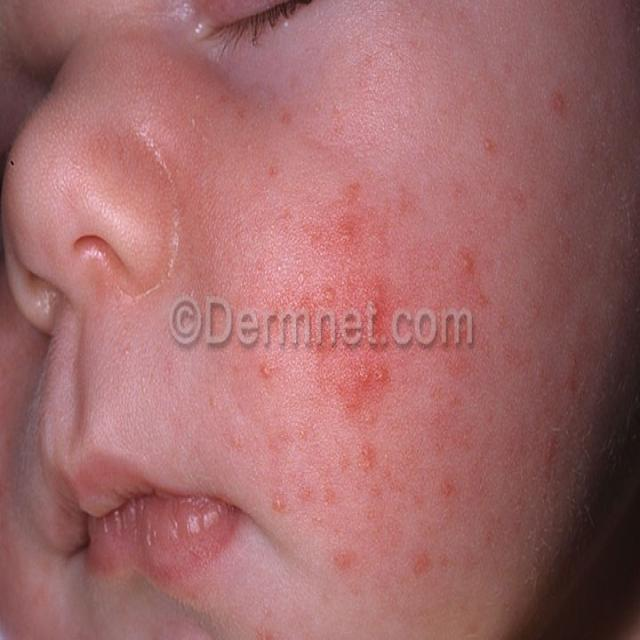acne: (388, 288, 604, 457), (429, 434, 500, 572), (327, 426, 400, 514), (334, 344, 392, 416), (444, 230, 500, 295), (308, 216, 368, 276), (241, 336, 280, 423), (546, 66, 576, 132), (269, 486, 297, 541), (359, 290, 389, 336), (471, 145, 502, 174)
